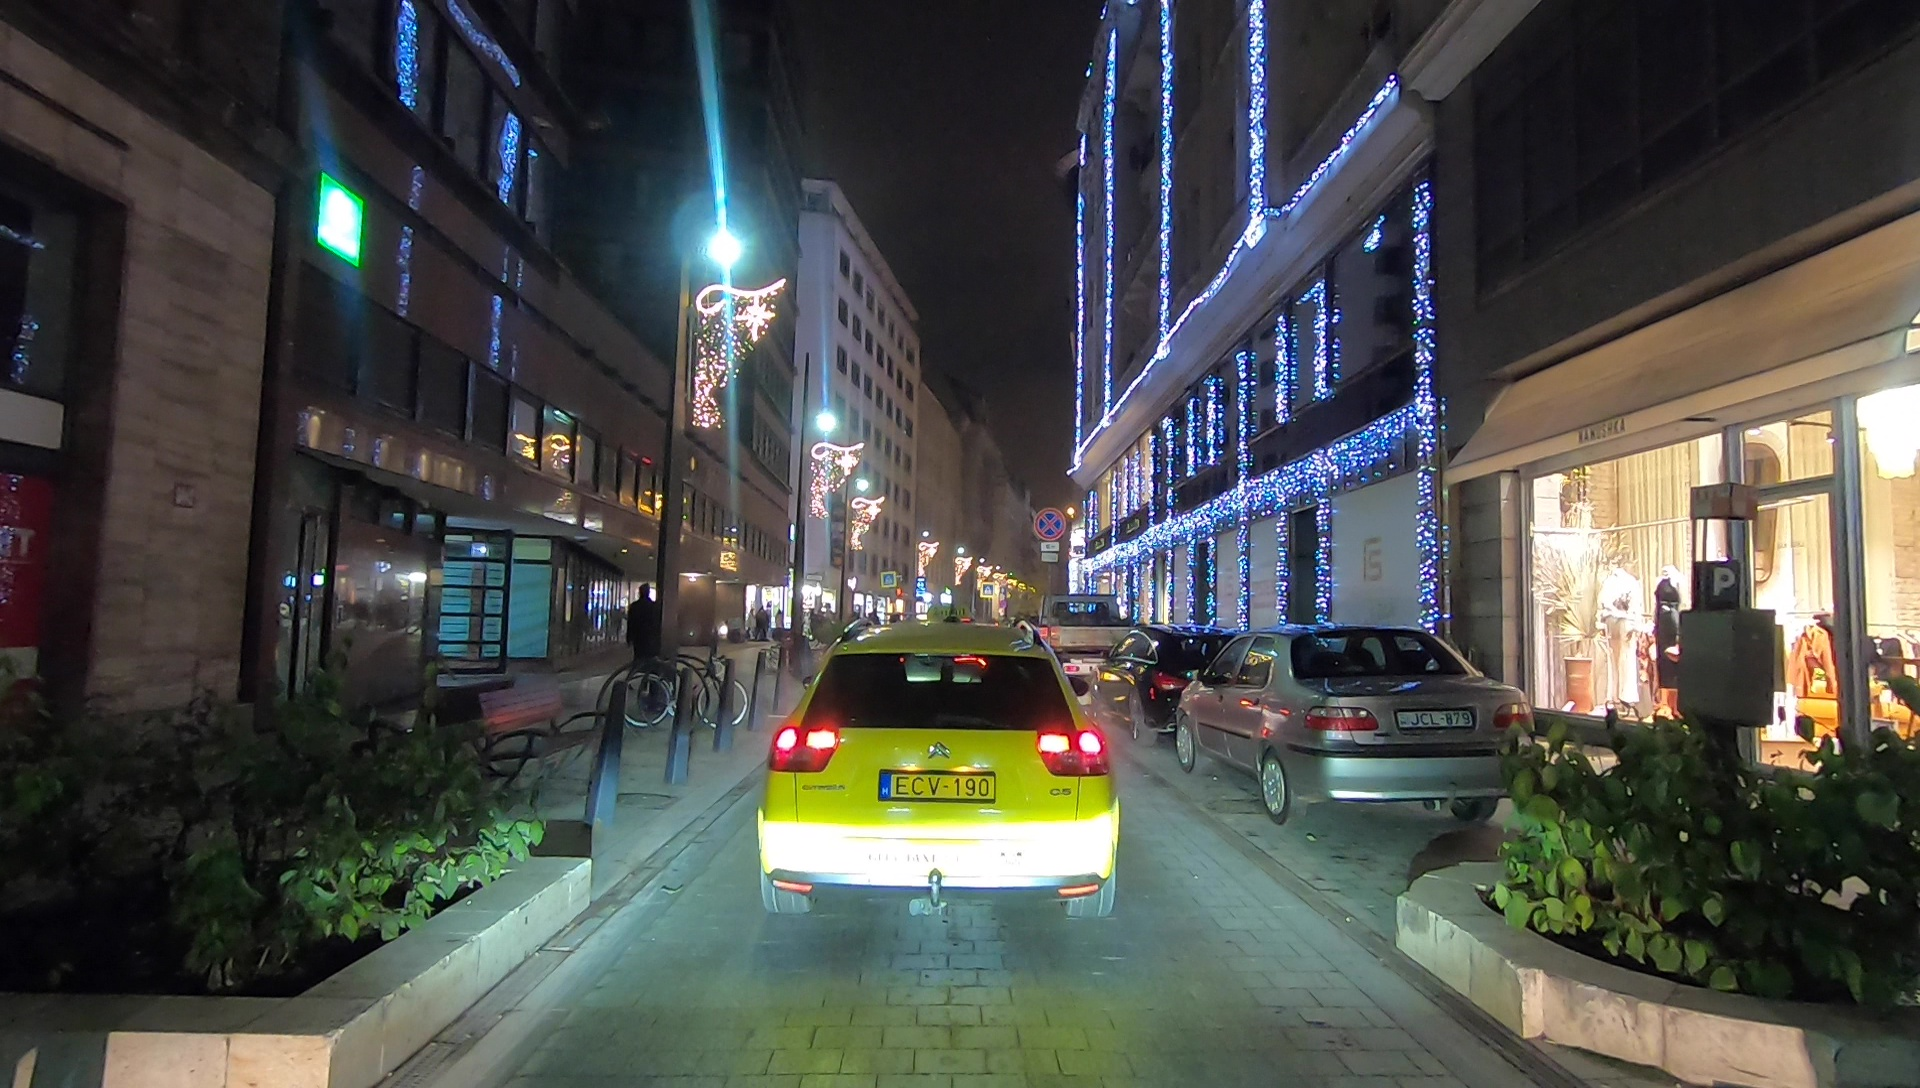person: (625, 587, 662, 686)
